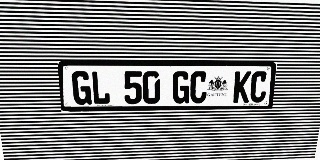0: (143, 71, 160, 104)
5: (124, 71, 142, 104)
C: (249, 71, 268, 103), (190, 71, 208, 103)
G: (71, 71, 92, 105), (172, 71, 190, 104)
K: (233, 71, 252, 103)
L: (91, 71, 110, 105)
